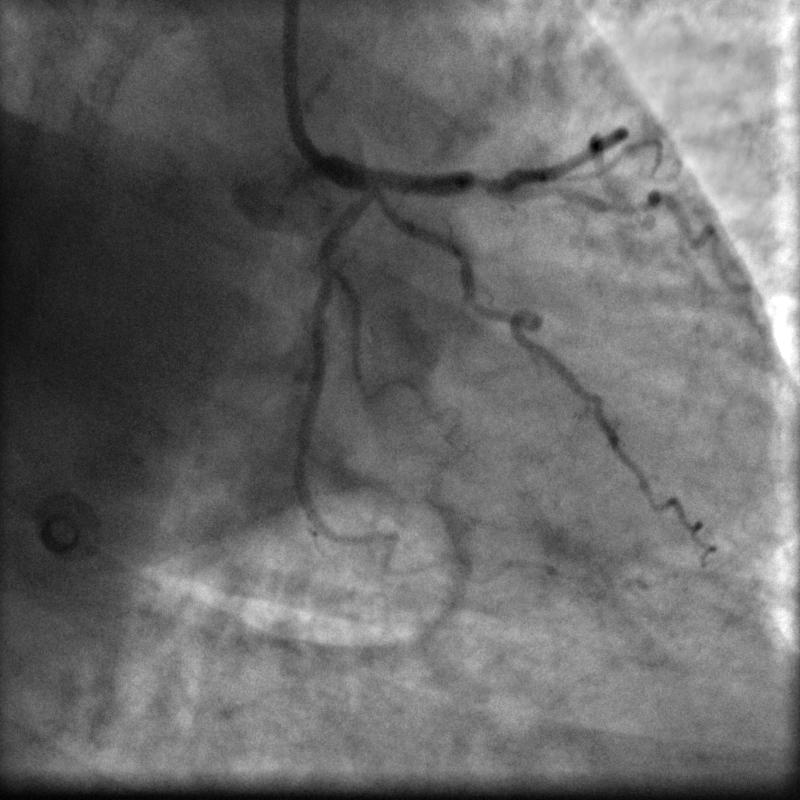Stenosis: (464, 165, 498, 200)
